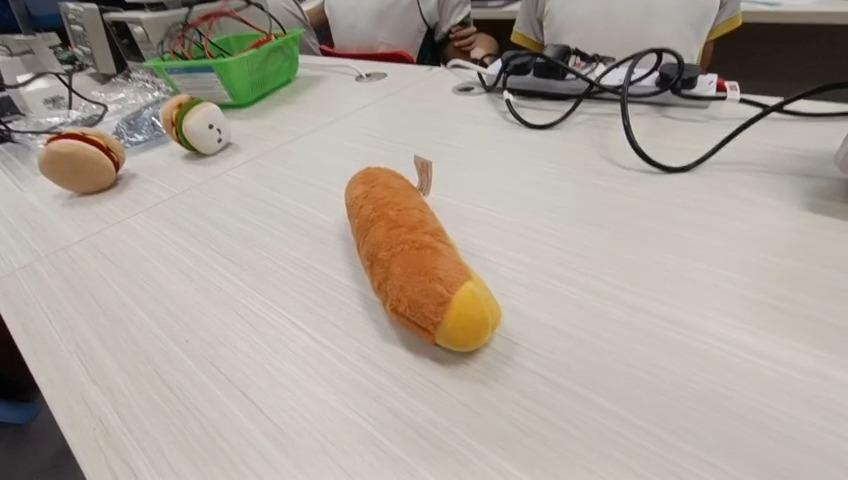hotdog: (343, 164, 502, 353), (37, 126, 126, 194)
